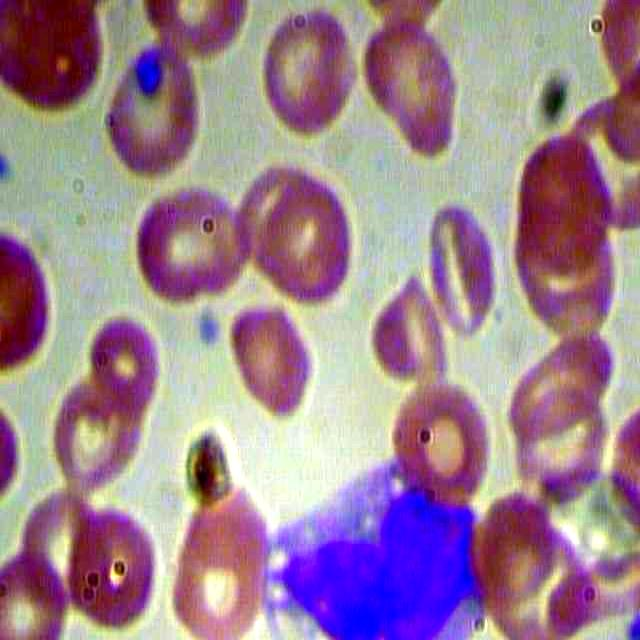RBC: (116, 171, 261, 317), (363, 5, 471, 163), (101, 39, 210, 188), (379, 384, 494, 520), (256, 5, 362, 146), (250, 168, 358, 303), (175, 490, 272, 640), (220, 296, 326, 420), (62, 501, 161, 627), (422, 200, 507, 336), (86, 309, 163, 412)
WBC: (265, 445, 490, 640)
